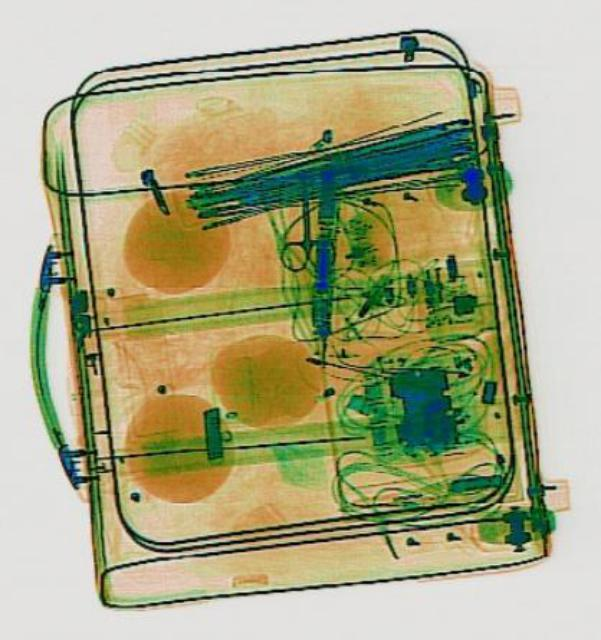Scissors: (276, 178, 333, 268)
